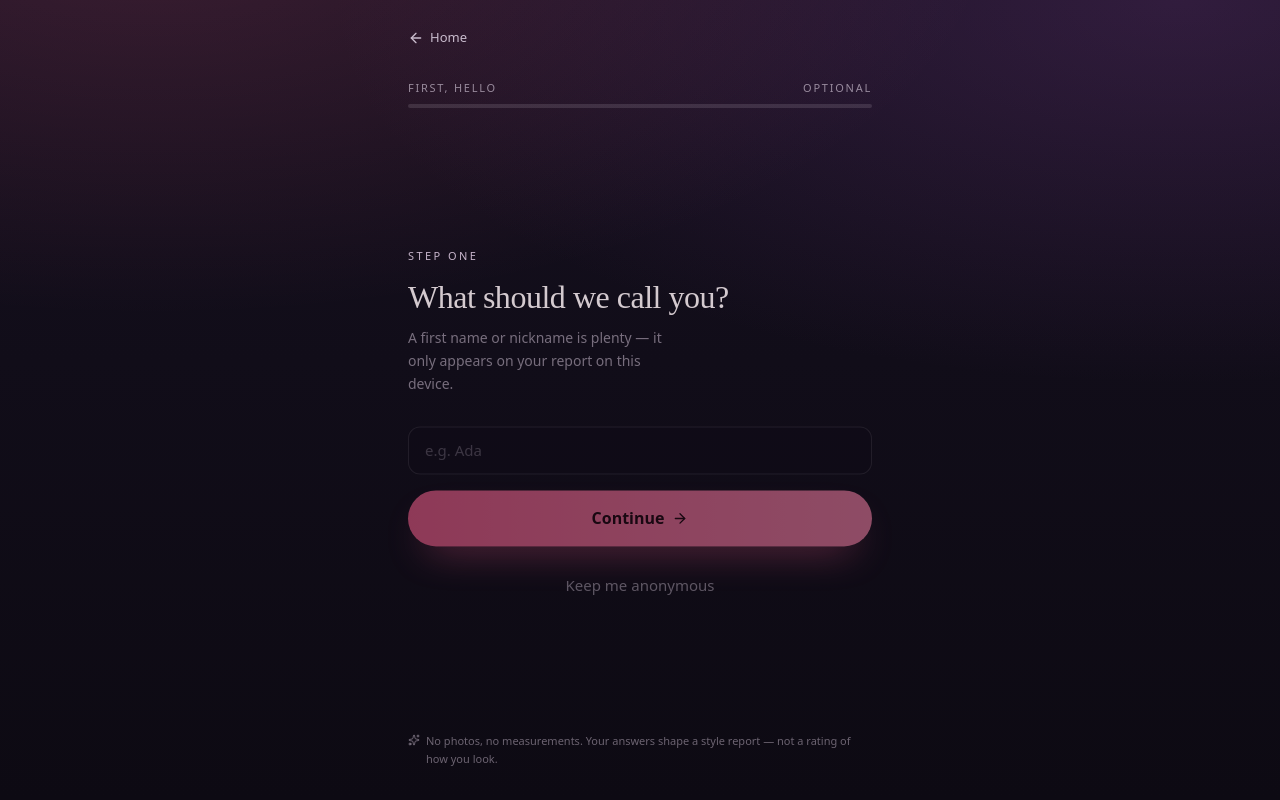
Scenario: QuizFlow › moves to the first question and is skippable
Type "Ada" into the field named "first name or nickname".
click(640, 450); type("Ada")  # box x1=408 y1=426 x2=872 y2=474
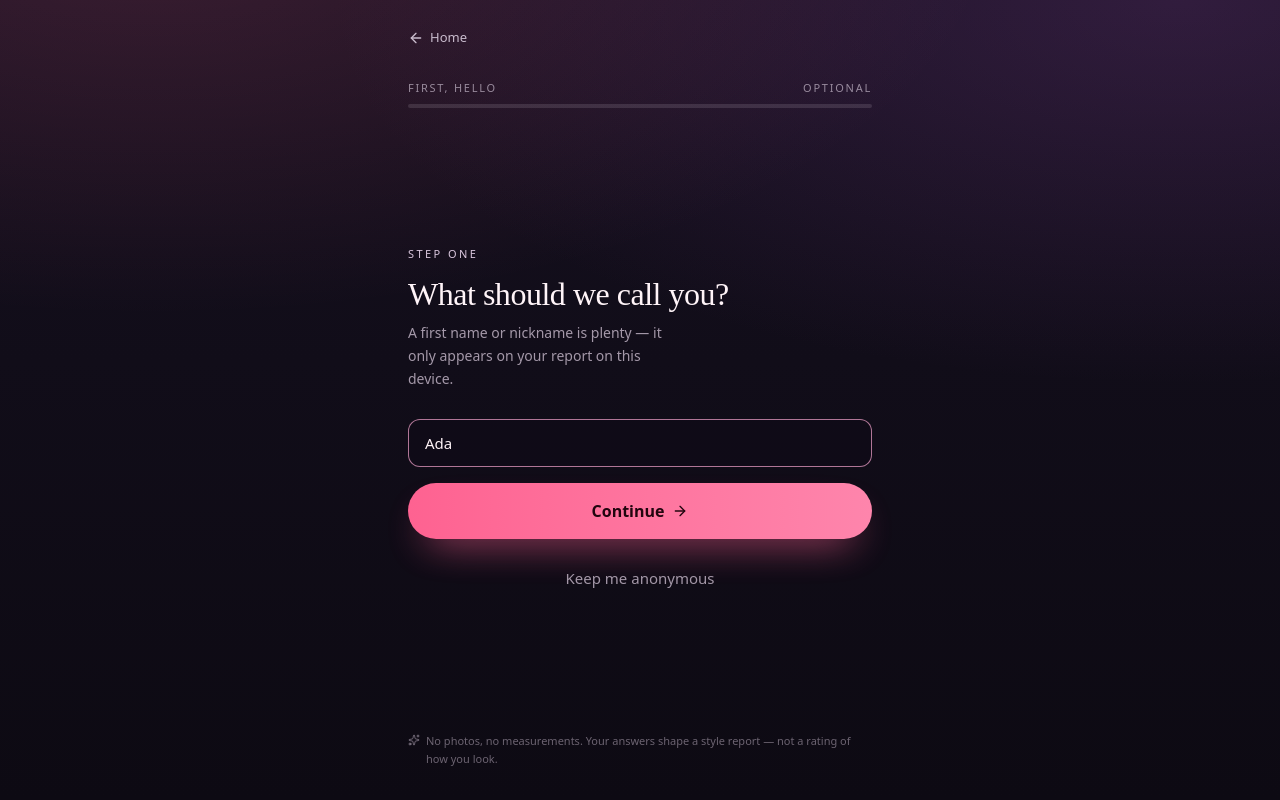
Click the button "Continue".
click(640, 510)  # box x1=408 y1=482 x2=872 y2=538
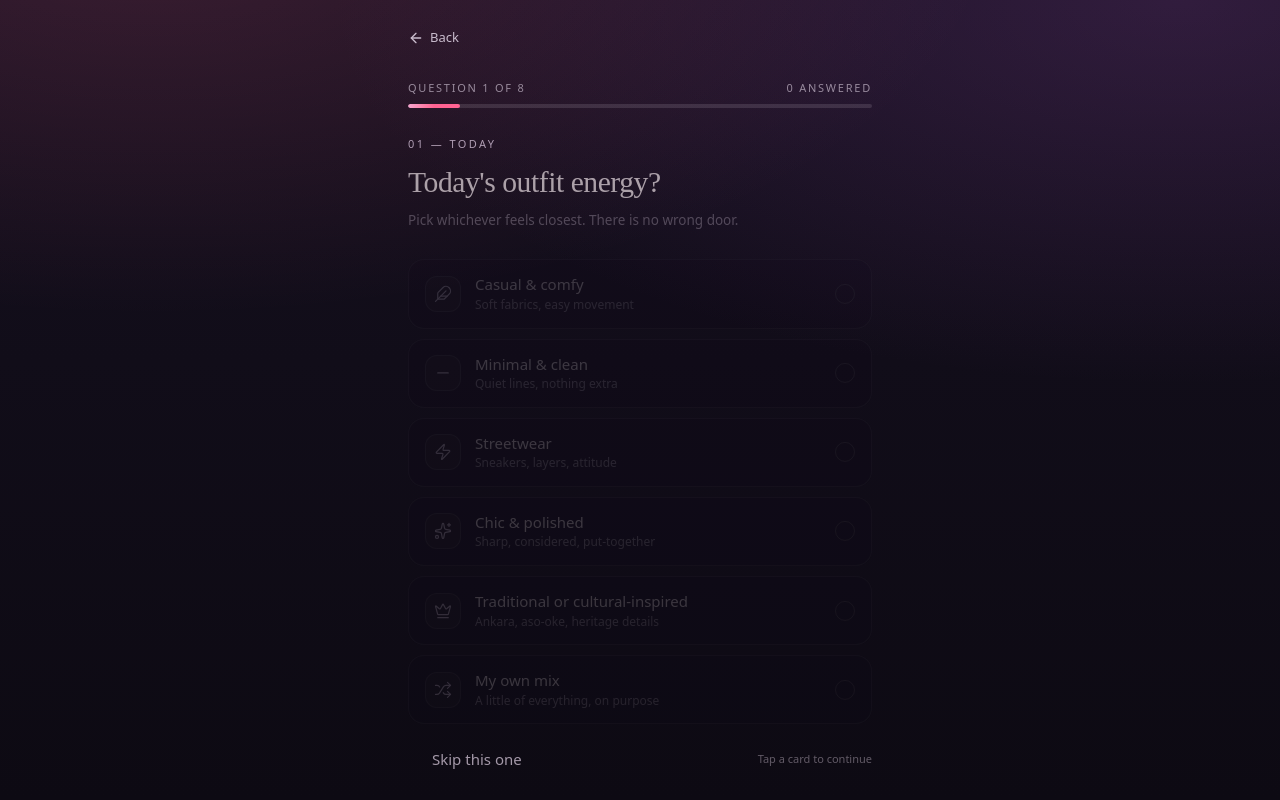
Expected: the heading "Today's outfit energy?" is shown, x1=408 y1=165 x2=661 y2=197
Expected: the element named "Today's outfit energy?" is shown, x1=408 y1=259 x2=872 y2=724
Click the button "Skip this one".
click(477, 759)  # box x1=408 y1=735 x2=546 y2=783
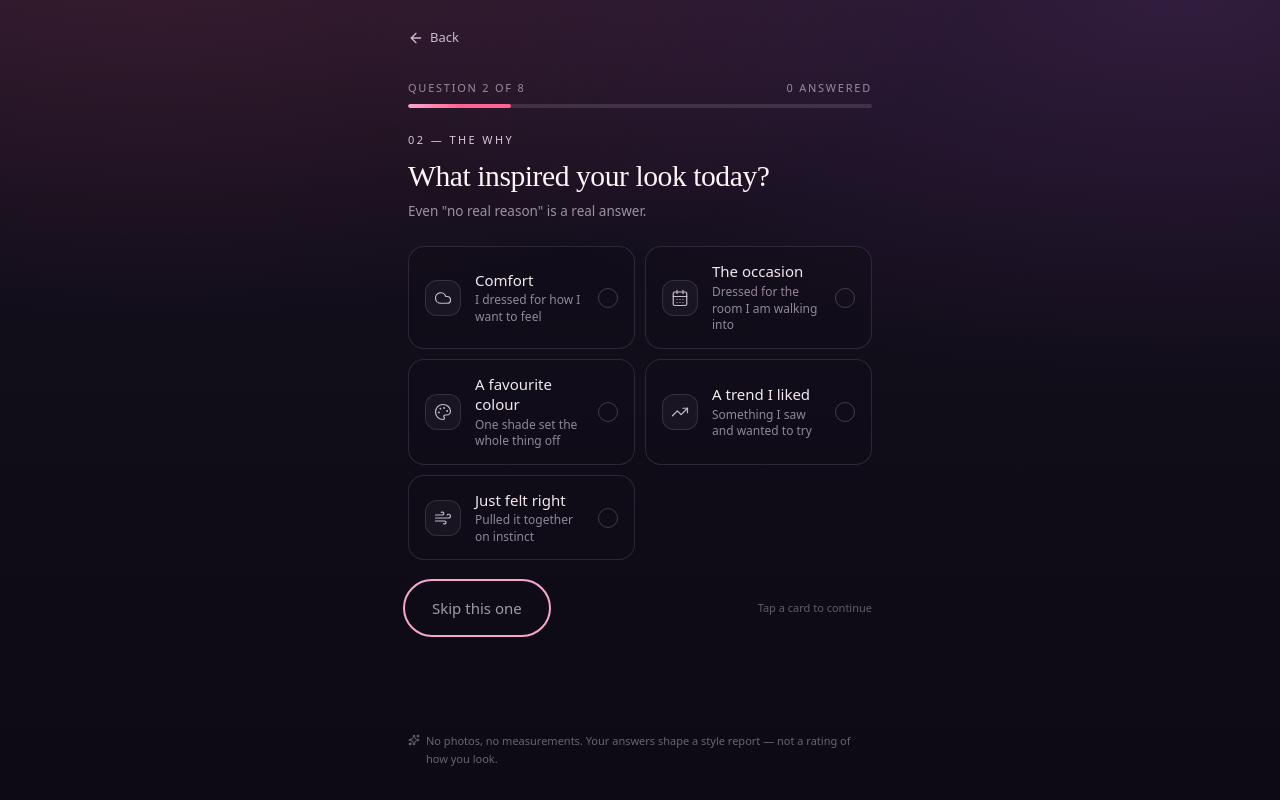
Expected: the heading "What inspired your look today?" is shown, x1=408 y1=160 x2=770 y2=192
